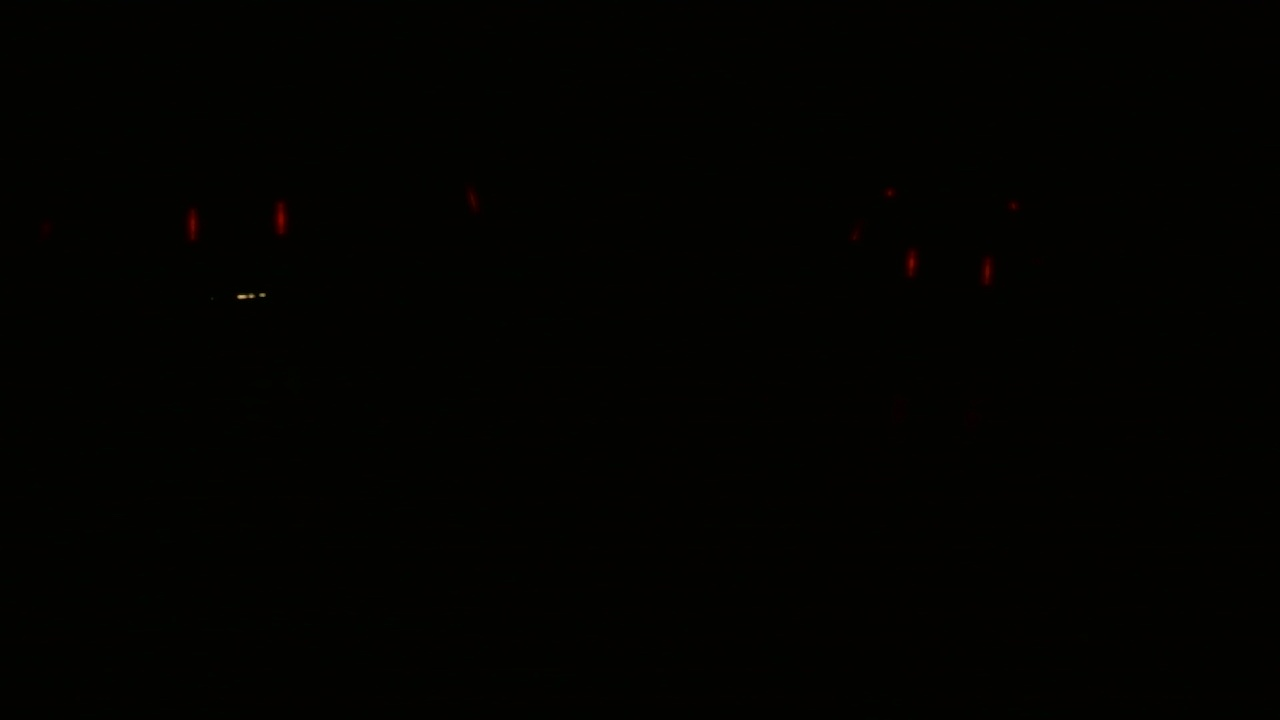pair1: (174, 187, 302, 255)
pair2: (892, 238, 1003, 296)
